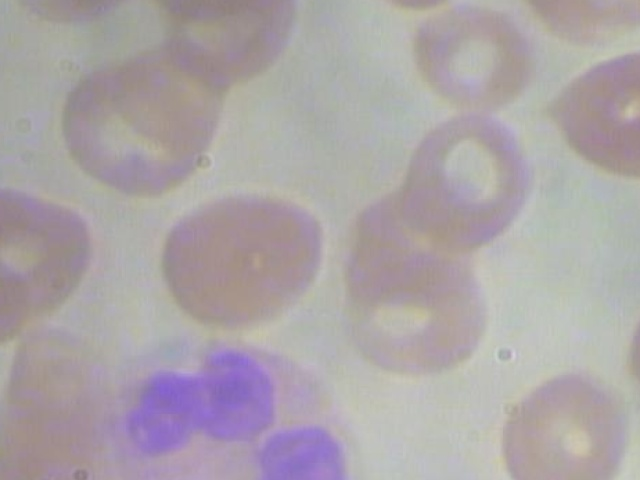RBC: (148, 172, 332, 342), (55, 47, 221, 195), (392, 105, 541, 255), (342, 238, 491, 388), (0, 183, 104, 341), (403, 1, 537, 120), (500, 364, 636, 480), (544, 38, 640, 180)
WBC: (86, 320, 380, 480)
